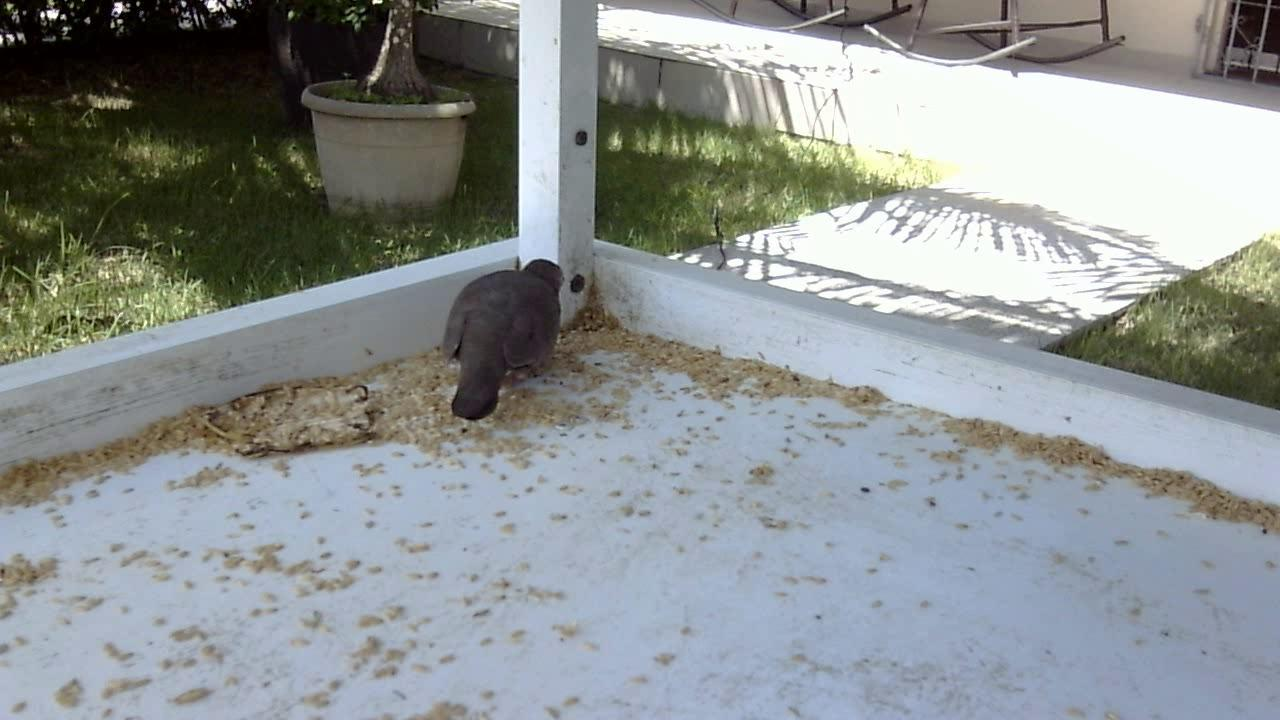rolinha: (433, 252, 575, 425)
